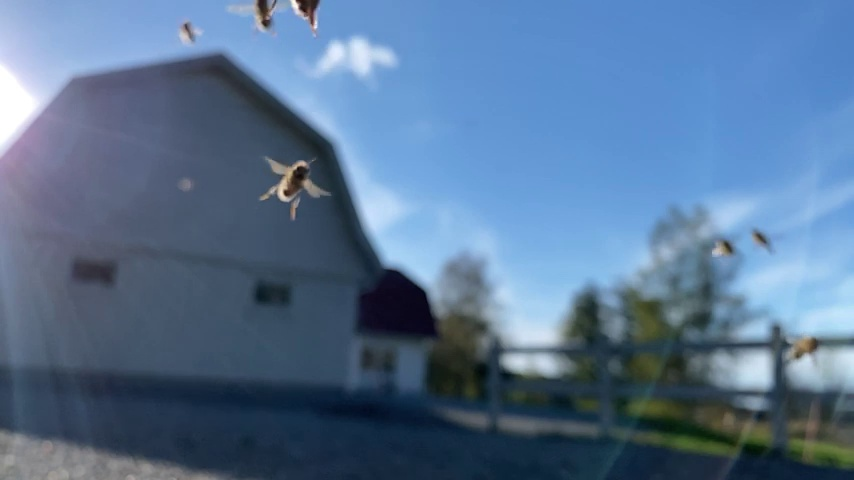insect: (260, 157, 326, 220), (229, 0, 282, 36), (780, 326, 823, 365), (289, 0, 327, 36), (748, 227, 778, 260), (176, 19, 211, 46)
